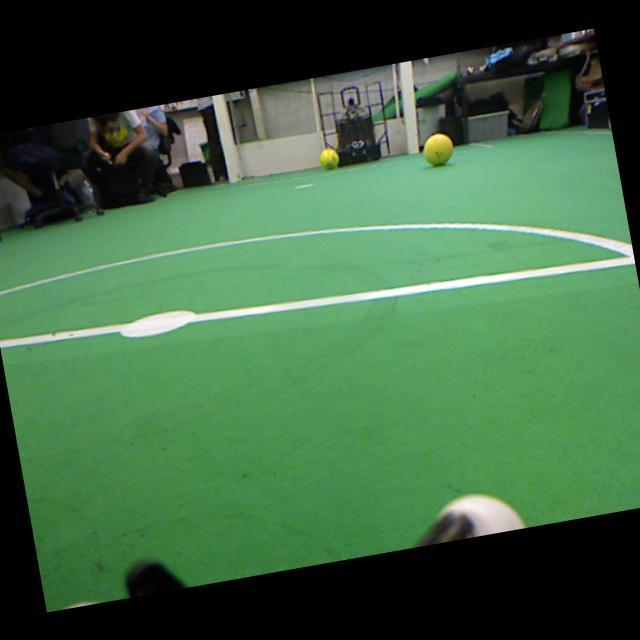ball: (424, 134, 453, 166), (319, 148, 339, 169)
goal: (210, 94, 239, 182), (400, 60, 418, 154)
robot: (334, 86, 381, 167)
